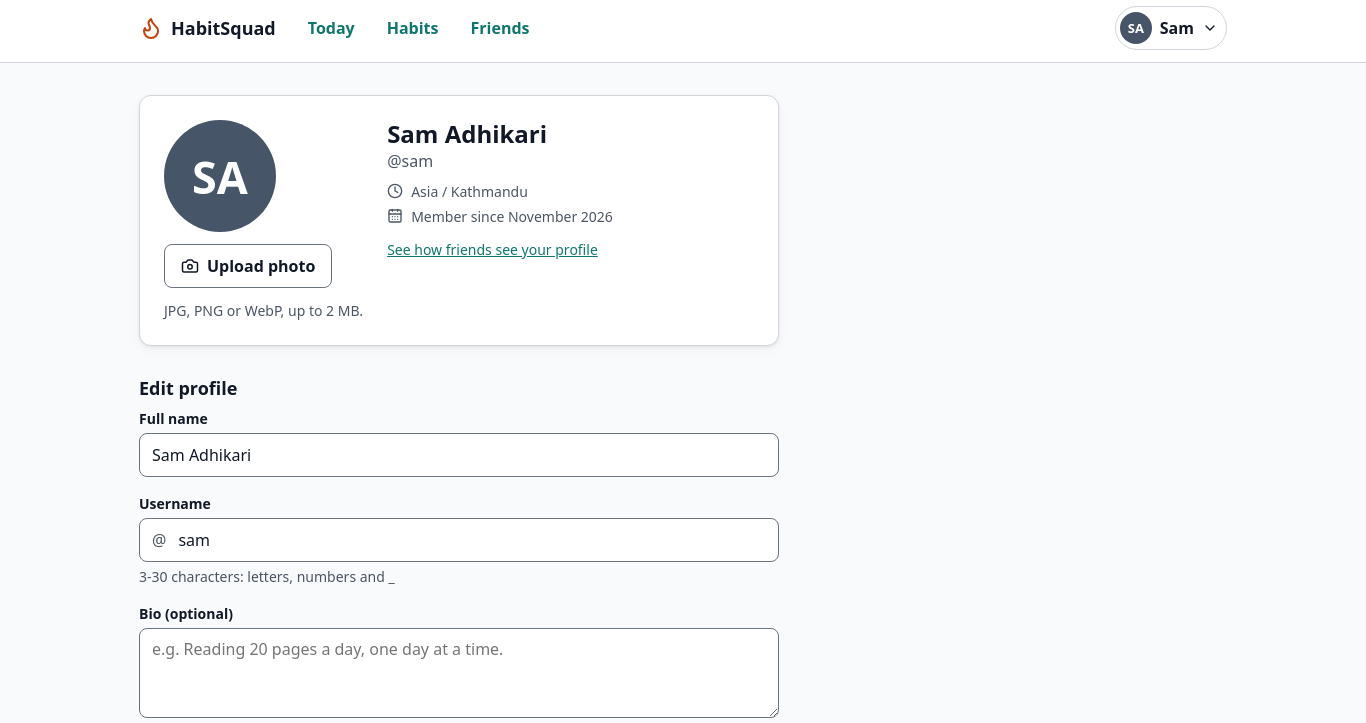
Test: ProfilePage › checks the fields before sending
The image size is (1366, 723).
Expected: the heading "Sam Adhikari" is shown, [387,117,547,150]
Clear the field labelled "Full name" at (459, 455), box [140,435,778,475]
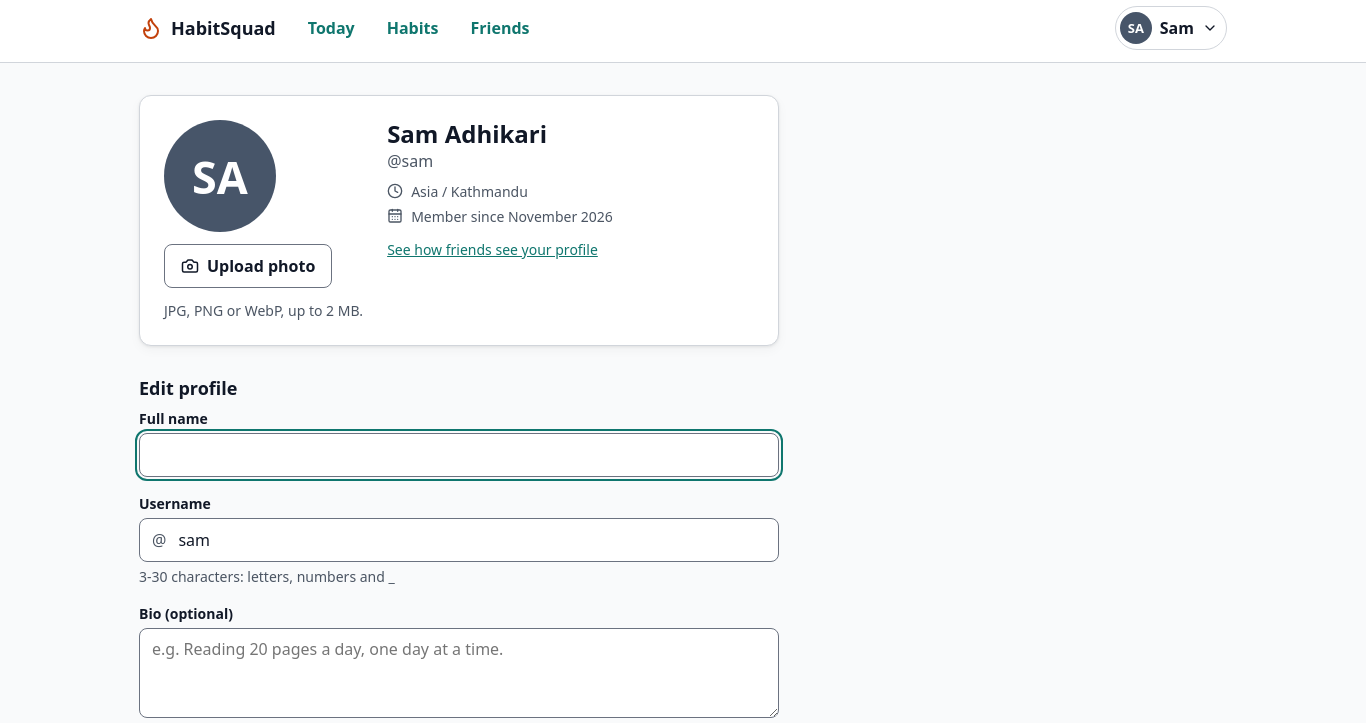
Replace the text in the field labelled "Username" with "a b" at (472, 540), box [166,520,778,560]
(page scrolled)
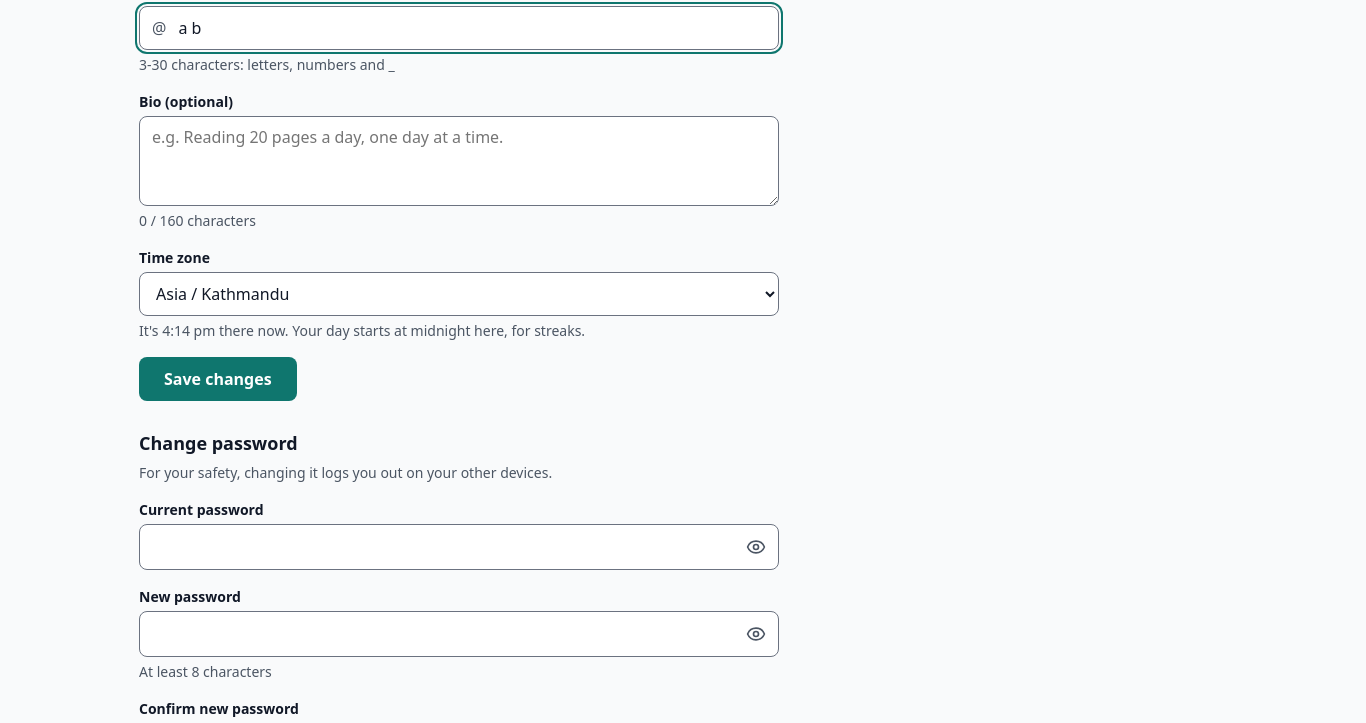
Click the button "Save changes".
click(218, 379)  # box [139,357,297,401]
(page scrolled)
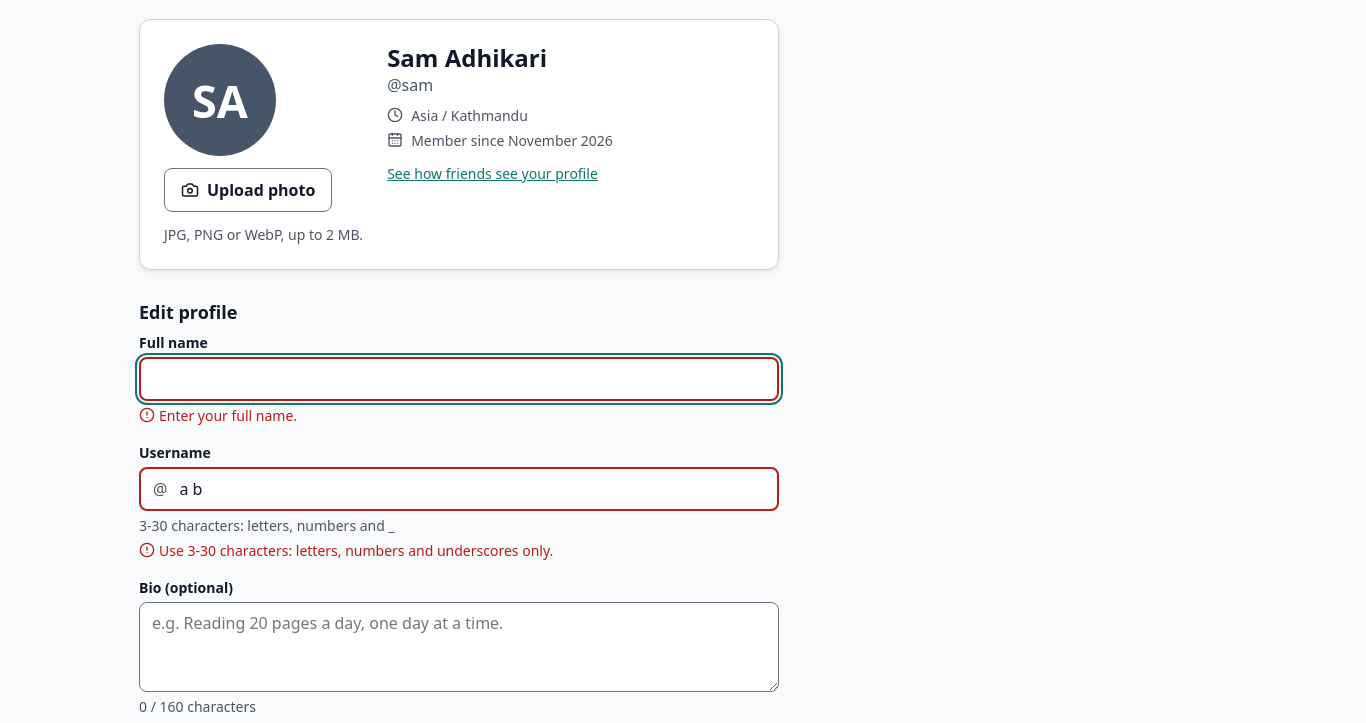
Result: the text "Enter your full name." is shown at [139,406,297,425]
Result: the text "Use 3-30 characters: letters, numbers and underscores only." is shown at [139,541,553,560]
